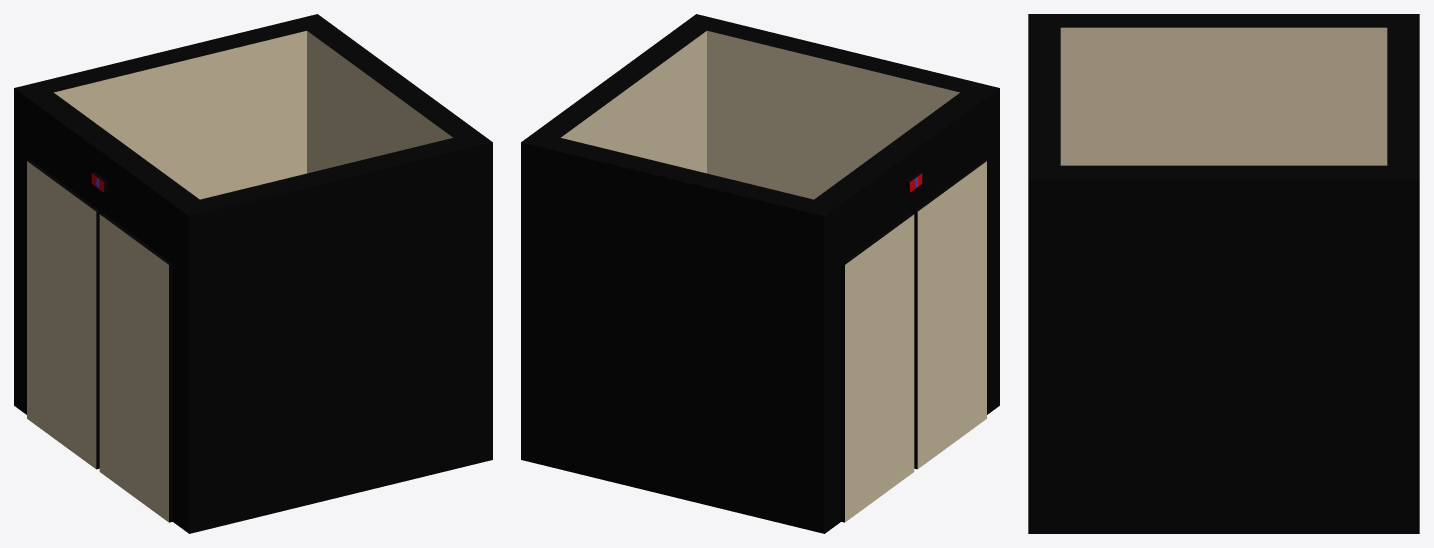
File: Elevator 1.fbx
The picture shows the model from 3 angles, left to right: view 1: azimuth 30°, elevation 25°; view 2: azimuth 150°, elevation 25°; view 3: azimuth 270°, elevation 25°; orthographic projection. The views are drawn at different scales.
Visible parts, largest first — view 1: Elevator; view 2: Elevator; view 3: Elevator.
Part boxes in pixels (<box>): Elevator: <box>14,14,492,533</box>; Elevator: <box>521,14,999,533</box>; Elevator: <box>1028,14,1419,533</box>.
Size of the model in its own units: 1458 by 1437 by 1437.
